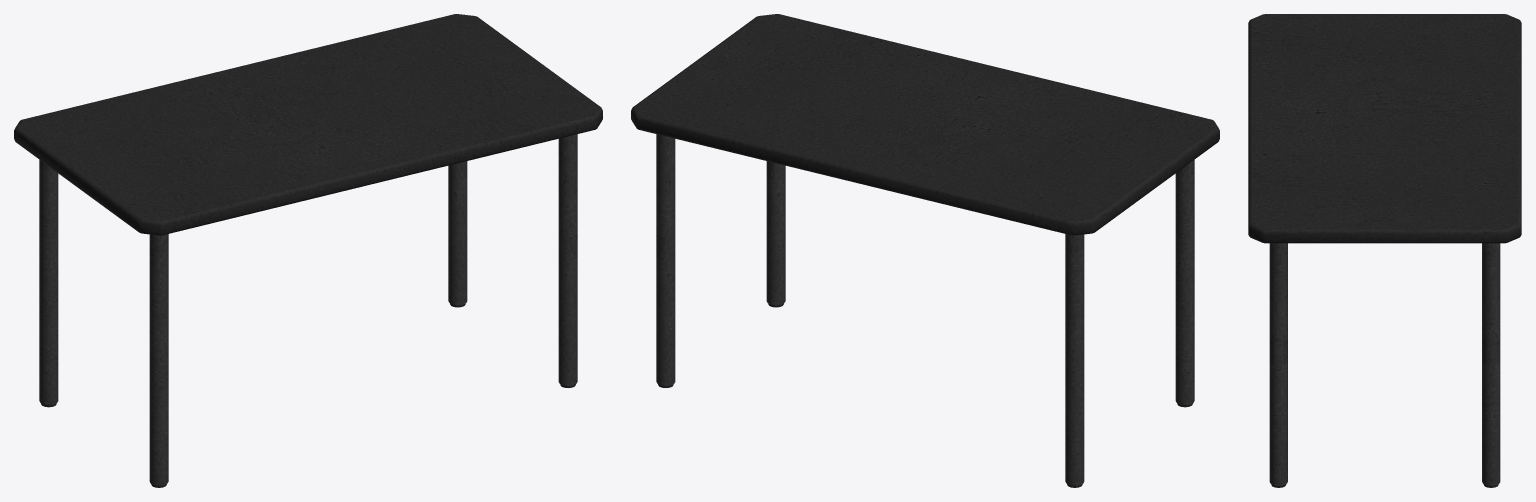
Rendered from table_large_2.glb.
3 renders of one model, left to right at view 1: azimuth 30°, elevation 25°; view 2: azimuth 150°, elevation 25°; view 3: azimuth 270°, elevation 25°, orthographic. The views are drawn at different scales.
Visible parts, largest first — view 1: table_large_2; view 2: table_large_2; view 3: table_large_2.
Boxes of the visible parts, x1,y1,x2,y2 form: table_large_2: (14, 14, 602, 487); table_large_2: (631, 14, 1219, 487); table_large_2: (1248, 14, 1521, 487).
Bounding box in the file's own units: 1.7 × 0.97 × 0.9.
2 materials, 2 textured.
